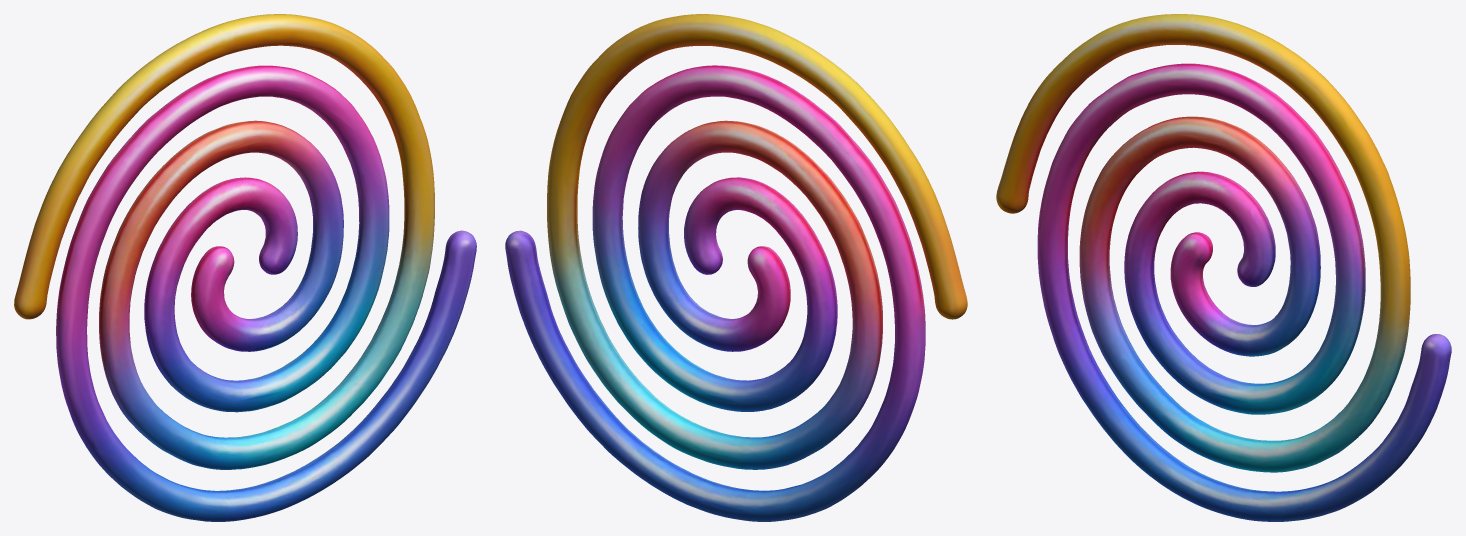
The model's file is swirl__main__r4__p1.glb.
3 views of the same model, side by side, from view 1: azimuth 30°, elevation 25°; view 2: azimuth 150°, elevation 25°; view 3: azimuth 330°, elevation 25° (orthographic).
Visible parts, largest first — view 1: model; view 2: model; view 3: model.
Boxes of the visible parts, box(x1,y1,x2,y2) form: model: box(14, 14, 476, 521); model: box(505, 14, 967, 521); model: box(996, 14, 1451, 521).
Bounding box in the file's own units: 1.76 × 1.83 × 0.0904.
1 material, 1 textured.
